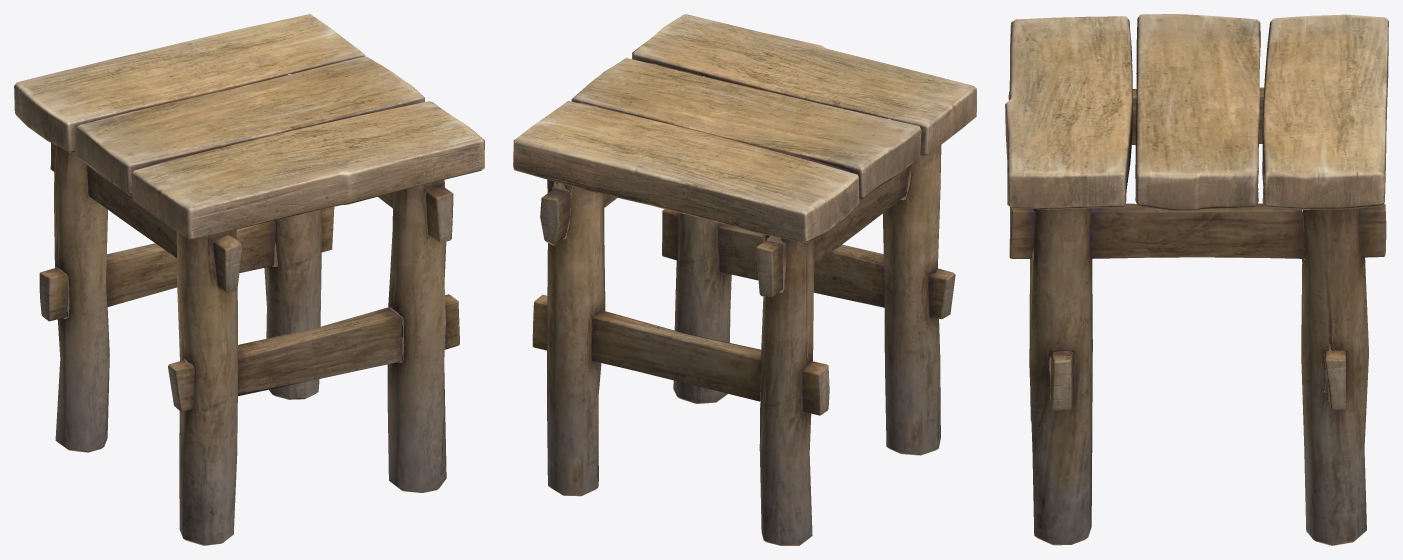
3 views of the same model, side by side, from view 1: azimuth 30°, elevation 25°; view 2: azimuth 150°, elevation 25°; view 3: azimuth 270°, elevation 25° (orthographic). The views are drawn at different scales.
Parts seen in each view (by area): view 1: SM_Side_table_01v1_LOD0; view 2: SM_Side_table_01v1_LOD0; view 3: SM_Side_table_01v1_LOD0.
Boxes of the visible parts, x1,y1,x2,y2 form: SM_Side_table_01v1_LOD0: [14, 14, 484, 545]; SM_Side_table_01v1_LOD0: [513, 14, 976, 545]; SM_Side_table_01v1_LOD0: [1005, 14, 1388, 545].
Bounding box in the file's own units: 0.5037 × 0.5649 × 0.5086.
1 material, 1 textured.
